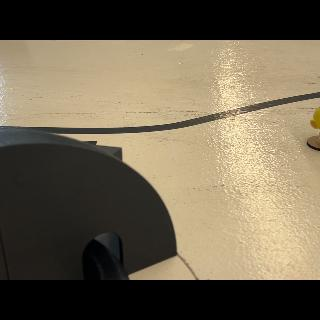teletubby: (310, 106, 320, 129), (317, 133, 320, 144)
